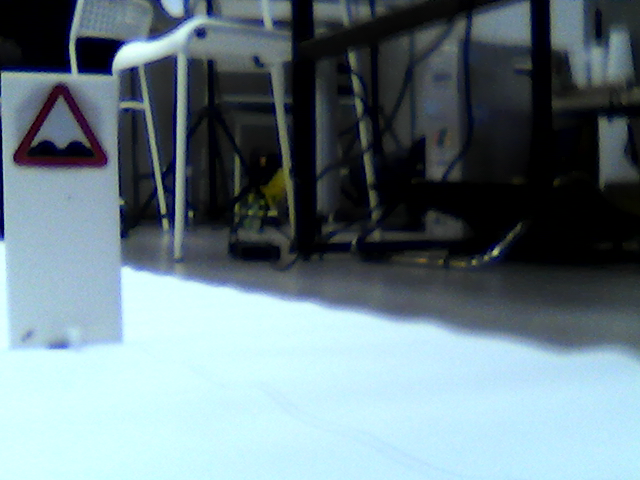Nerov: (14, 87, 107, 172)
